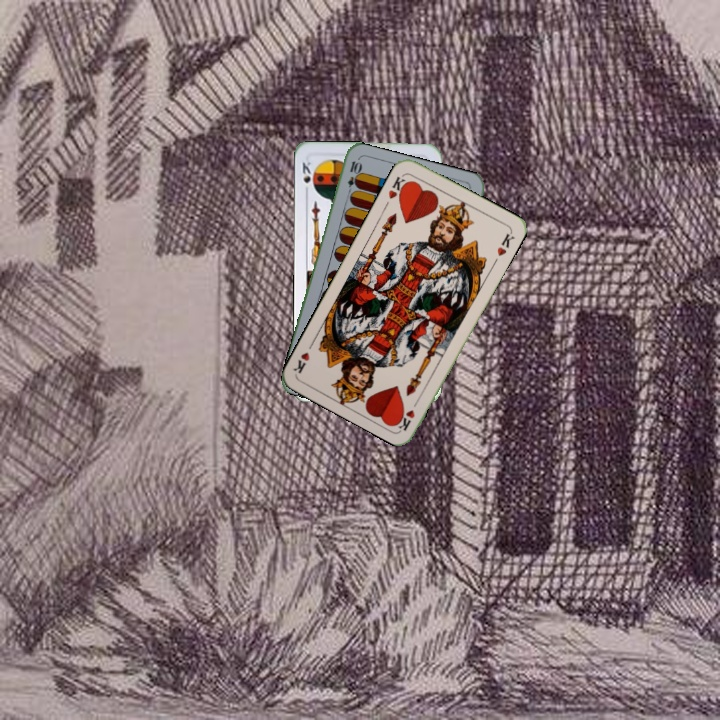E10: (343, 157, 362, 197)
HK: (395, 394, 422, 433), (384, 172, 411, 202)
SK: (298, 158, 317, 197)
